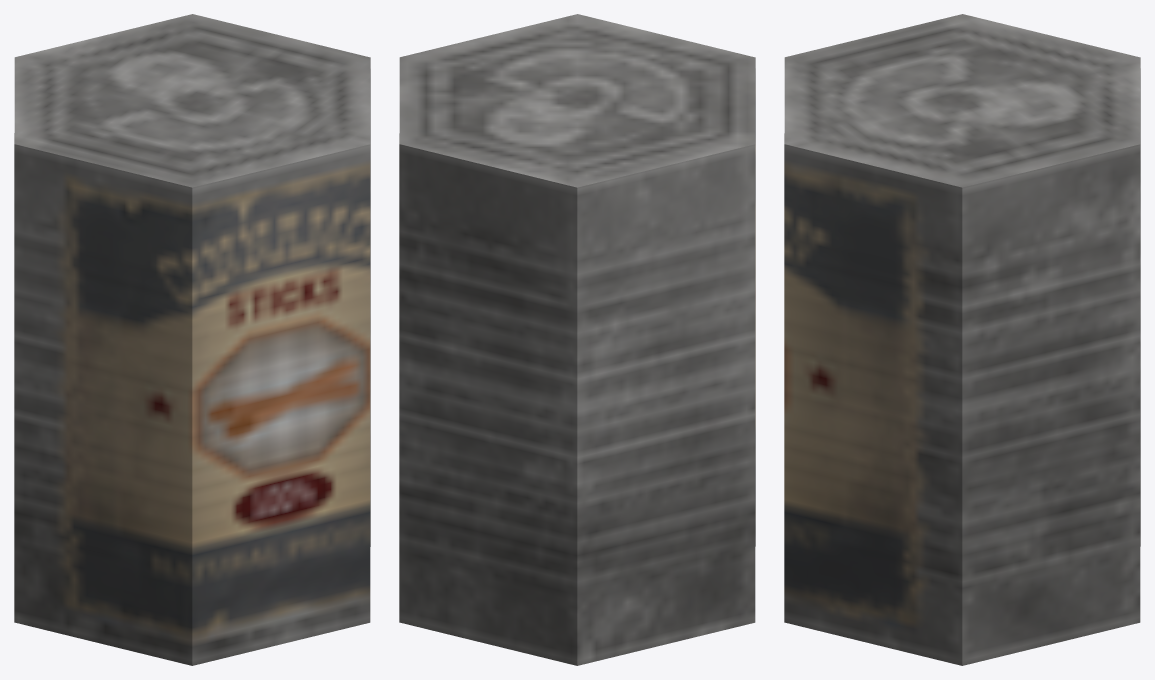
The model's file is Can_1.fbx.
3 renders of one model, left to right at view 1: azimuth 30°, elevation 25°; view 2: azimuth 150°, elevation 25°; view 3: azimuth 270°, elevation 25°, orthographic.
Parts seen in each view (by area): view 1: Can_1; view 2: Can_1; view 3: Can_1.
Part boxes in pixels (x1,y1,x2,y2): Can_1: (14,14,370,665); Can_1: (399,14,755,665); Can_1: (784,14,1140,665).
Size of the model in its own units: 12.19 by 15.65 by 10.56.
